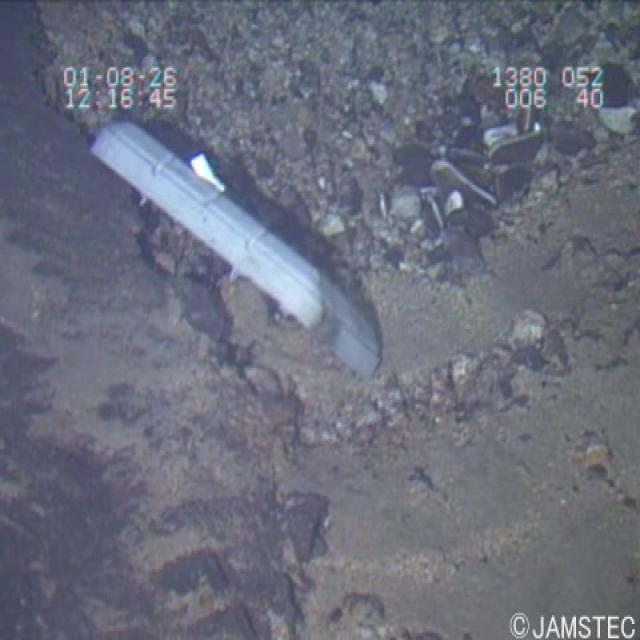plastic: (80, 110, 404, 416)
